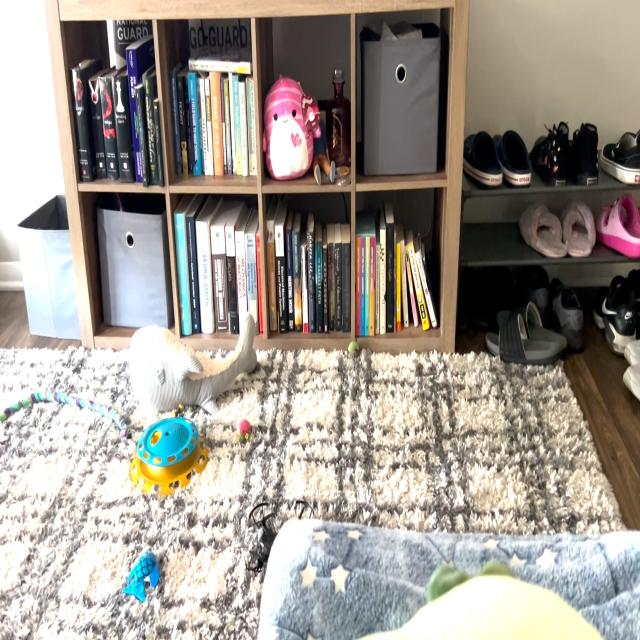drone: (239, 490, 319, 609)
